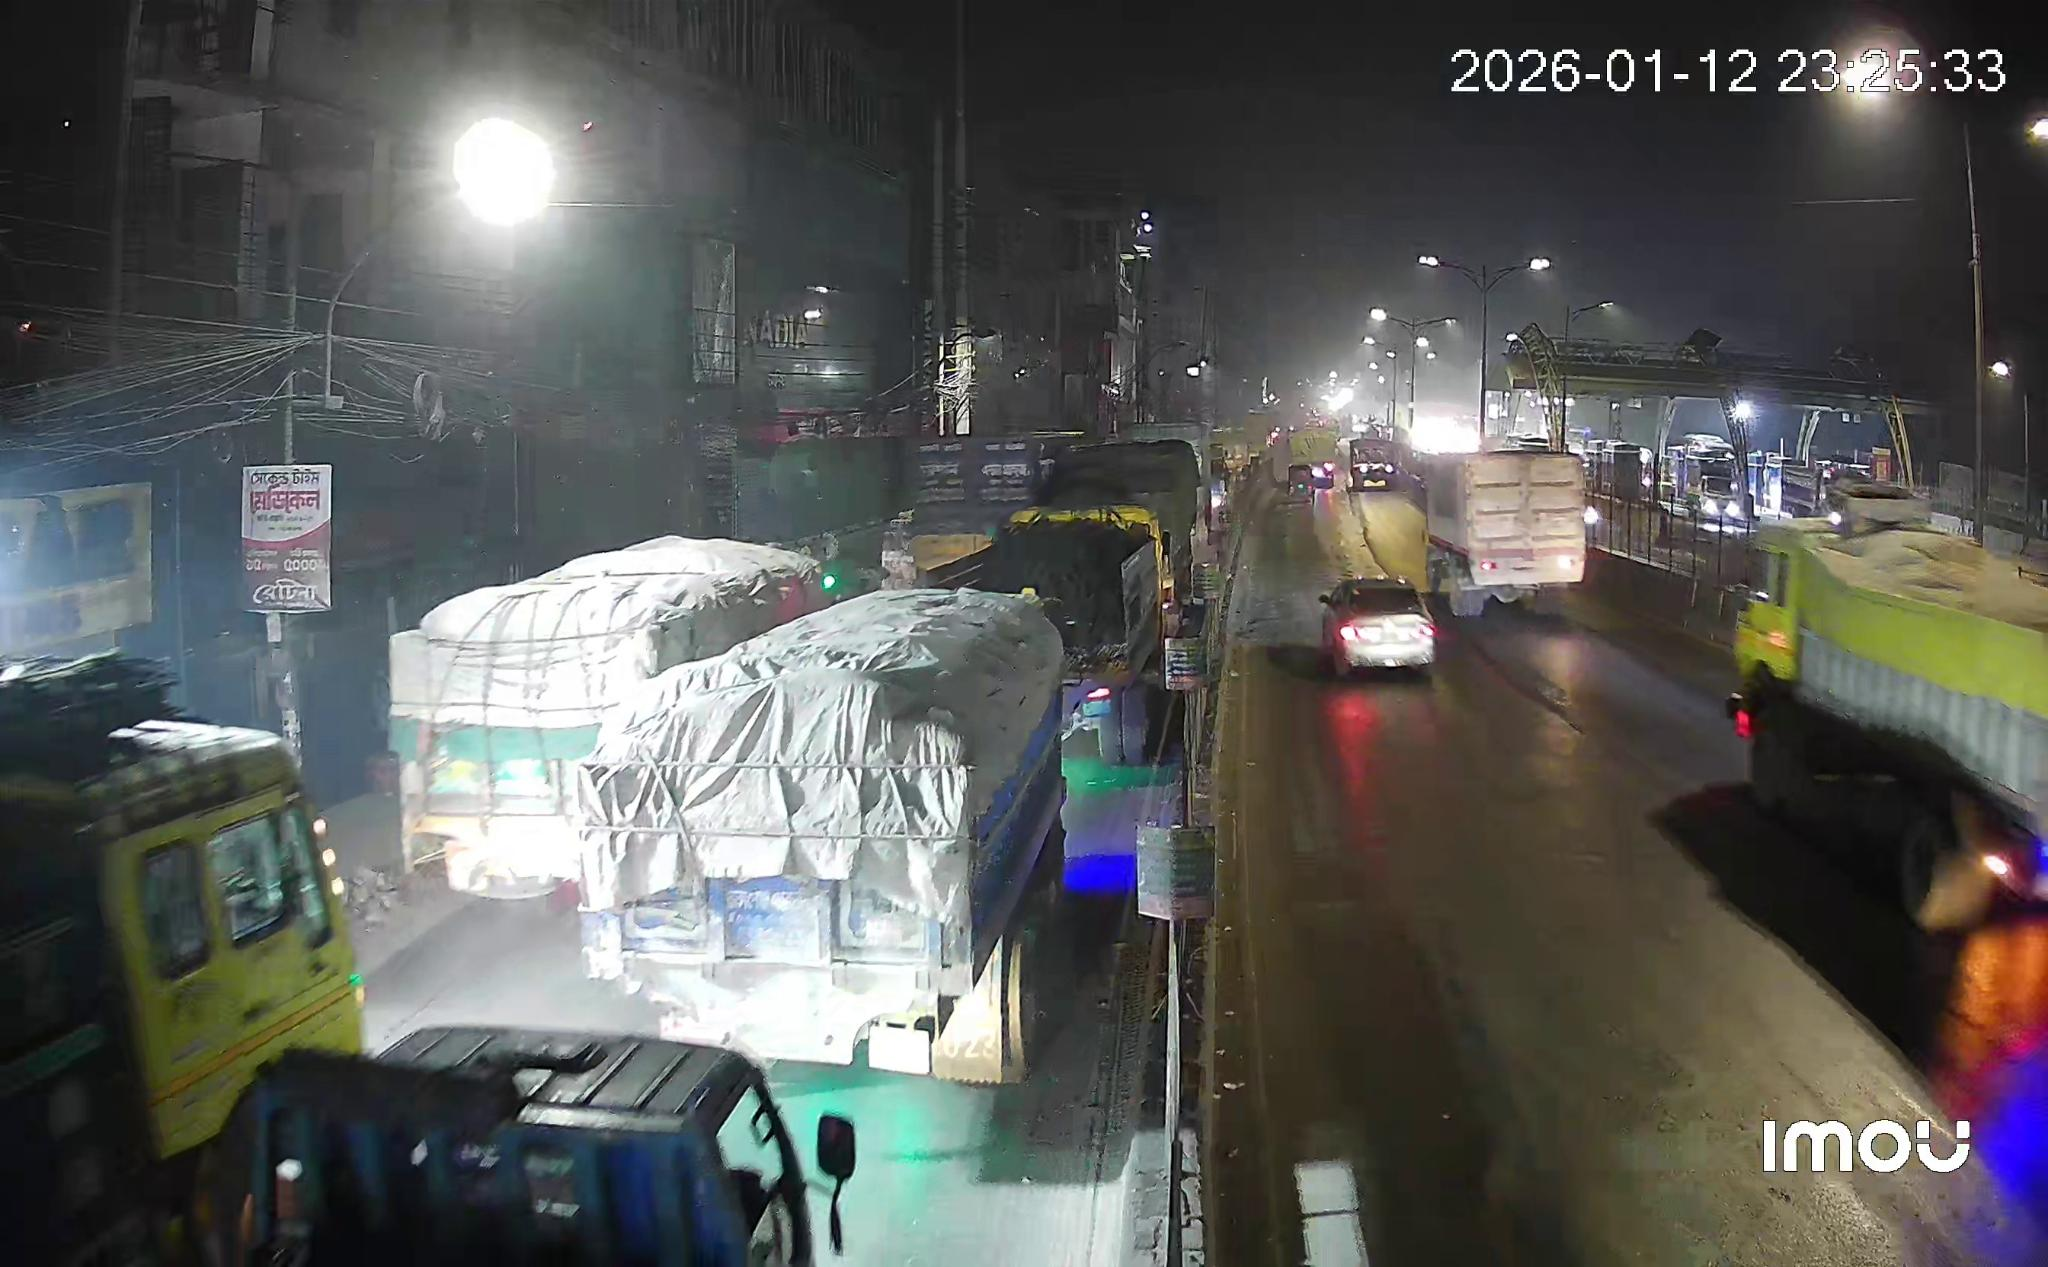Private-Sedan Car: (1318, 576, 1435, 674)
Truck: (572, 590, 1068, 1083), (0, 654, 360, 1261), (388, 537, 829, 900), (193, 1027, 815, 1267), (1725, 483, 2047, 929), (936, 505, 1172, 764), (1420, 443, 1596, 617)
